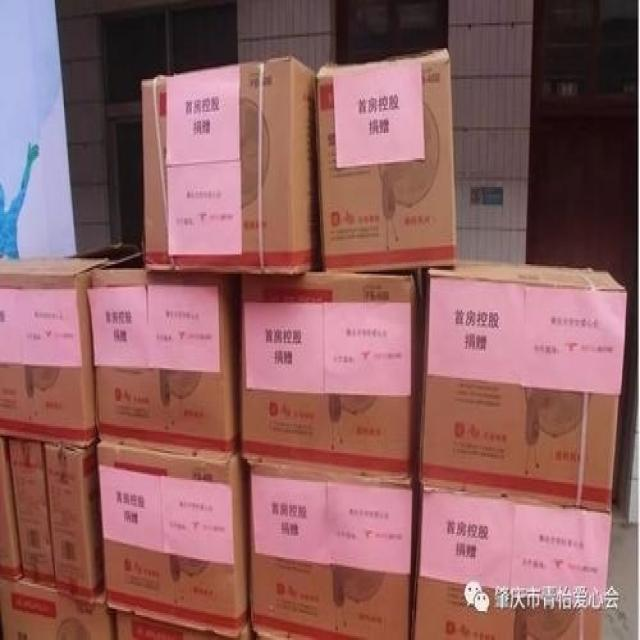box: (419, 256, 626, 511), (239, 264, 421, 482), (141, 56, 321, 276), (90, 247, 242, 459), (316, 48, 458, 274), (410, 484, 614, 640), (243, 459, 417, 640), (97, 441, 250, 636), (0, 243, 138, 449), (46, 443, 105, 601), (0, 574, 115, 640), (9, 438, 56, 588), (111, 611, 244, 640), (0, 438, 23, 580)
